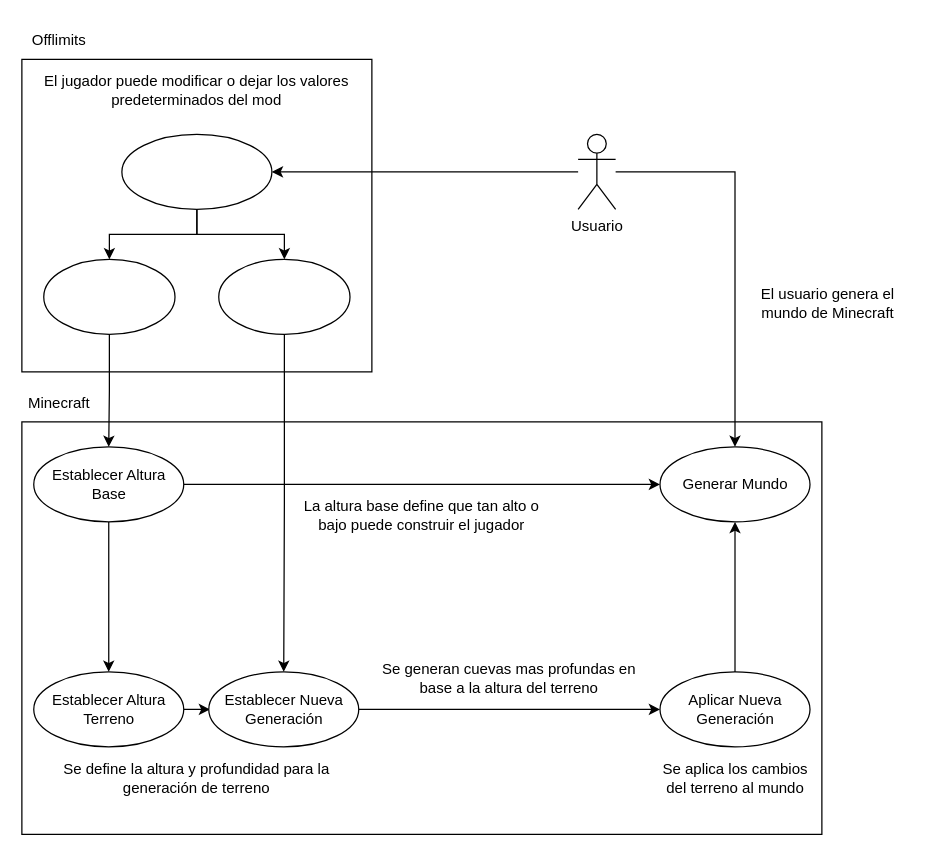
Some shapes in this 931 by 856 pixel diagram are drawn without their labels. Here are the shapes that lost their labels. From the top down, the centre of each, then its label:
point (196, 171): Aplicar Configuraciones
point (108, 296): Modificar Altura
point (284, 296): Modificar Terreno
